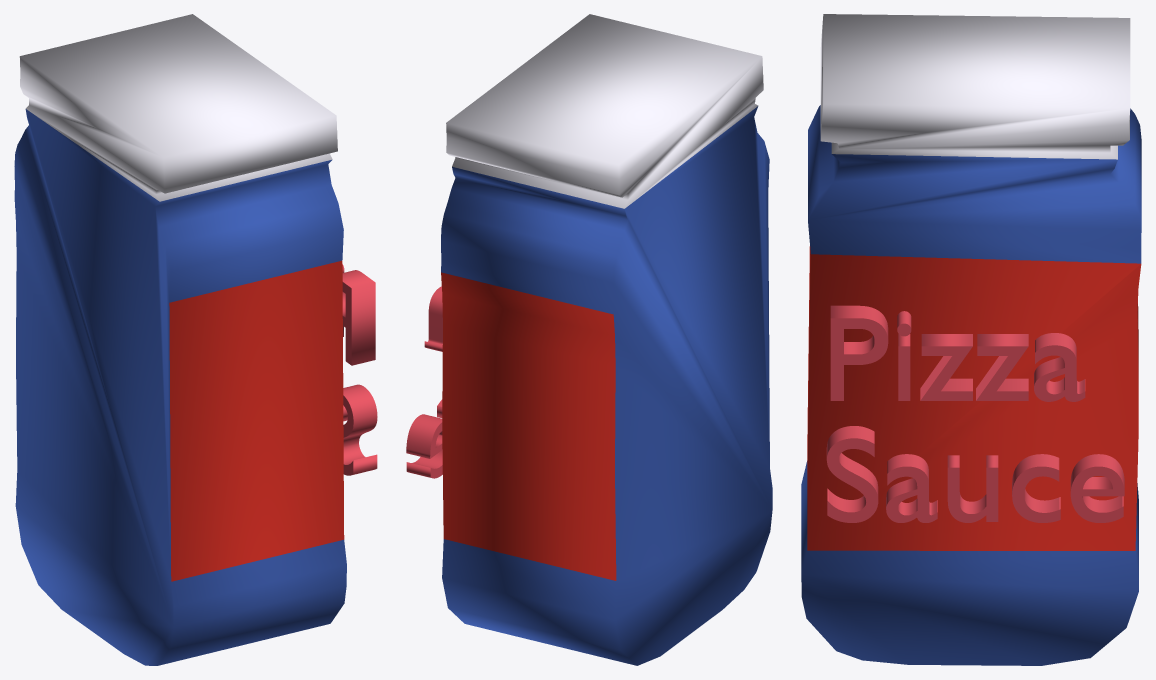
The model's file is PizzaSauce.fbx.
The picture shows the model from 3 angles, left to right: view 1: azimuth 30°, elevation 25°; view 2: azimuth 150°, elevation 25°; view 3: azimuth 270°, elevation 25°; orthographic projection. The views are drawn at different scales.
Parts seen in each view (by area): view 1: Plane.001, Text; view 2: Plane.001, Text; view 3: Plane.001, Text.
Part boxes in pixels (x1,y1,x2,y2): Plane.001: (14,14,346,665); Text: (342,264,377,475); Plane.001: (441,14,772,665); Text: (406,286,442,478); Plane.001: (801,14,1141,665); Text: (826,305,1124,522).
Bounding box in the file's own units: 199 × 464 × 255.
